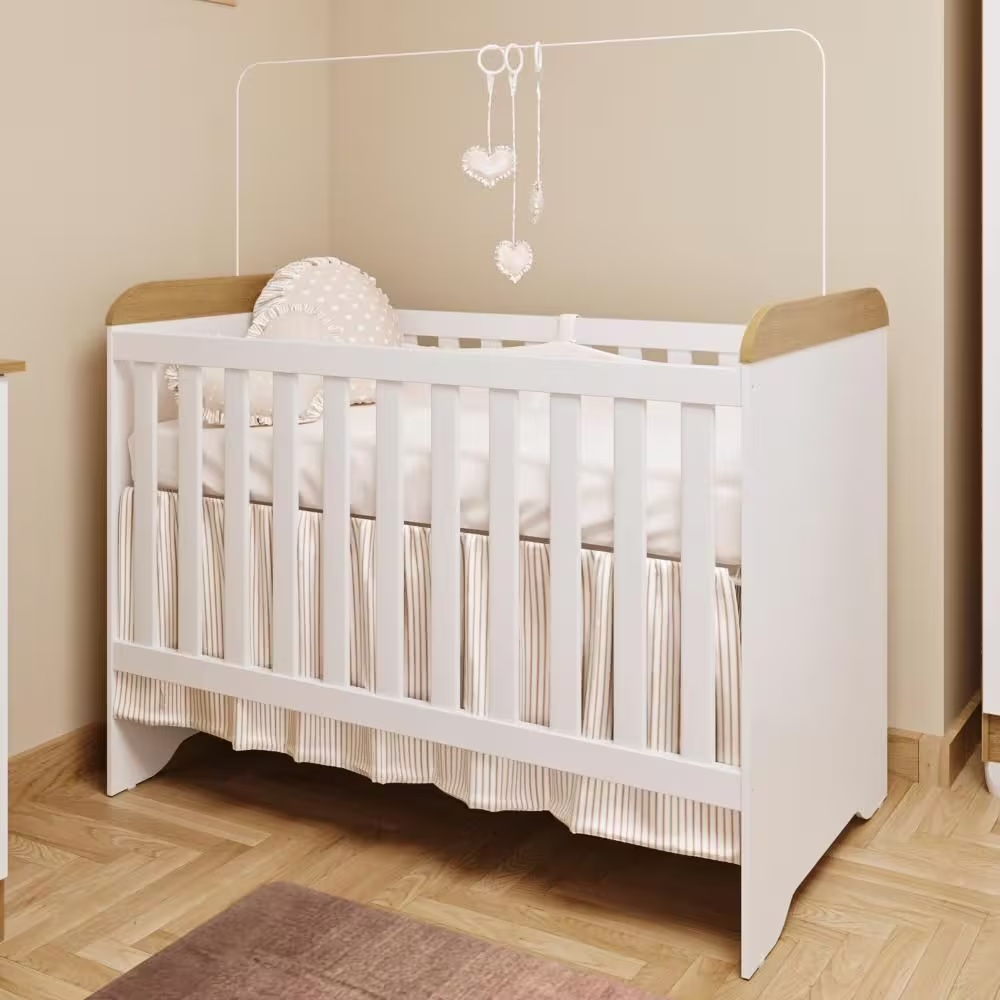crib: (109, 277, 887, 976)
